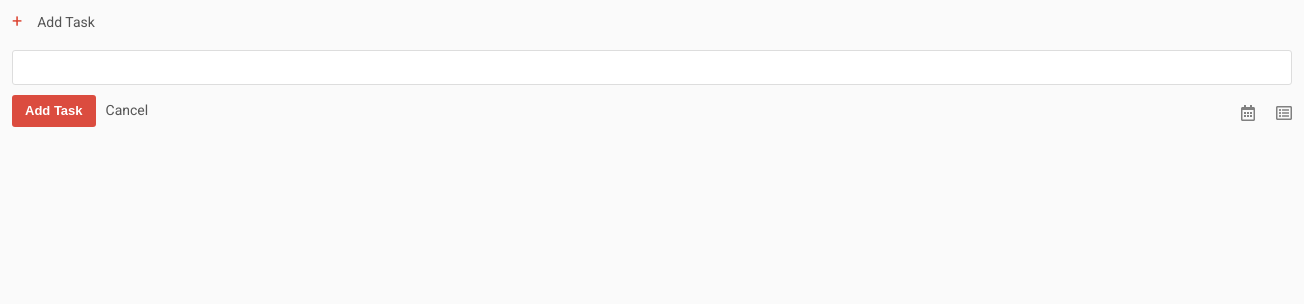
Test case: AddTask › should hide task date overlay when adding of a task is canceled
Click the button with test id "show-task-date-overlay": (1248, 114) [1240,105,1256,124]
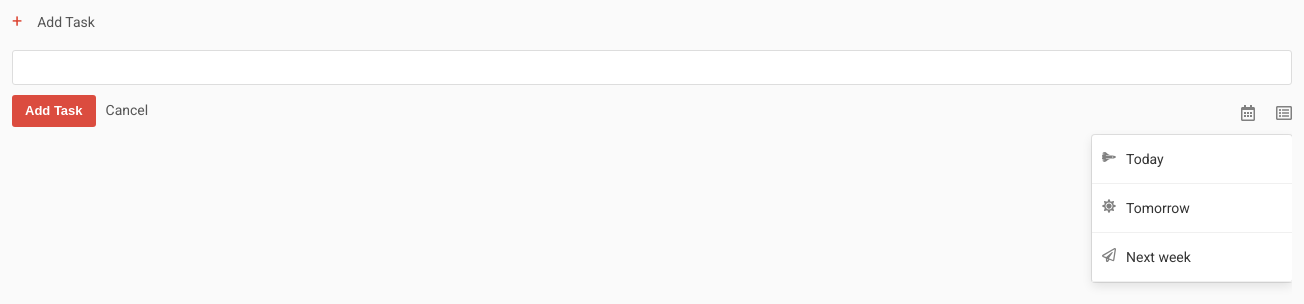
Expected: the element with test id "task-date-overlay" is shown, [1092,135,1292,282]
Click the button with test id "add-task-main-cancel": (127, 110) [106,102,148,118]
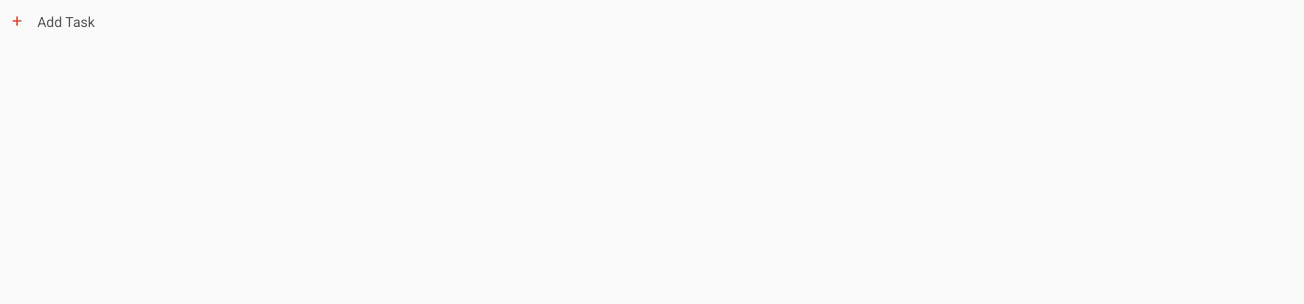
Expected: the element with test id "task-date-overlay" is gone
